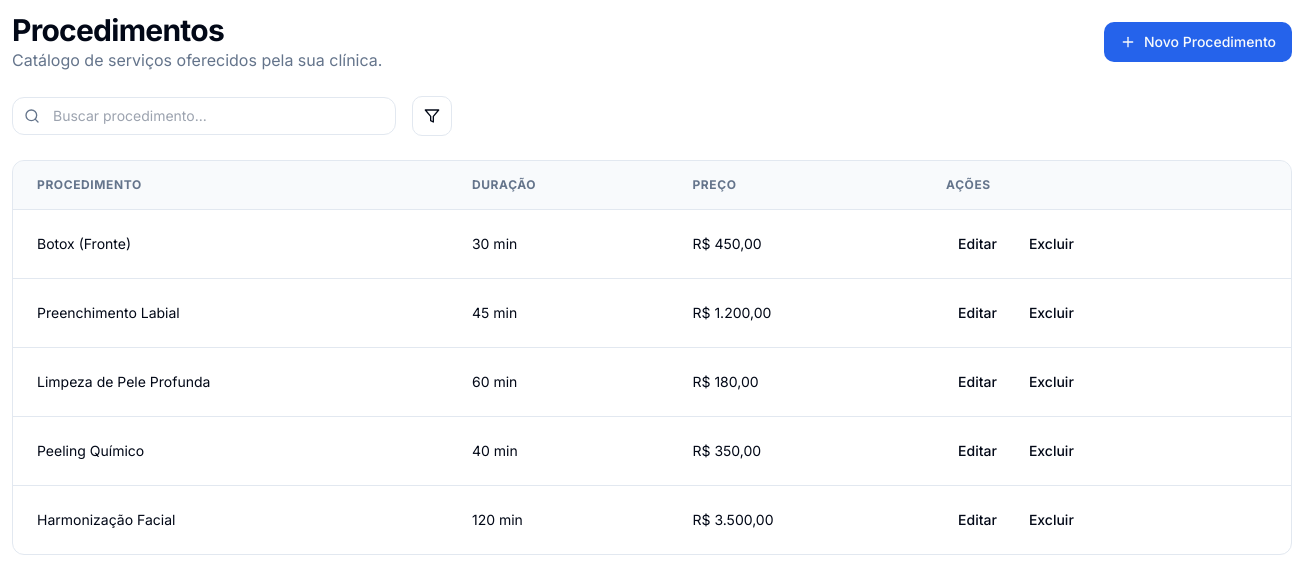
Test: ProceduresPage › filters procedures based on search input
expect the text "Botox (Fronte)" is shown: met, box x1=13 y1=210 x2=448 y2=278
Type in search box
Type "Preenchimento" into the field with placeholder "Buscar procedimento..." at (204, 116), box x1=12 y1=97 x2=396 y2=135
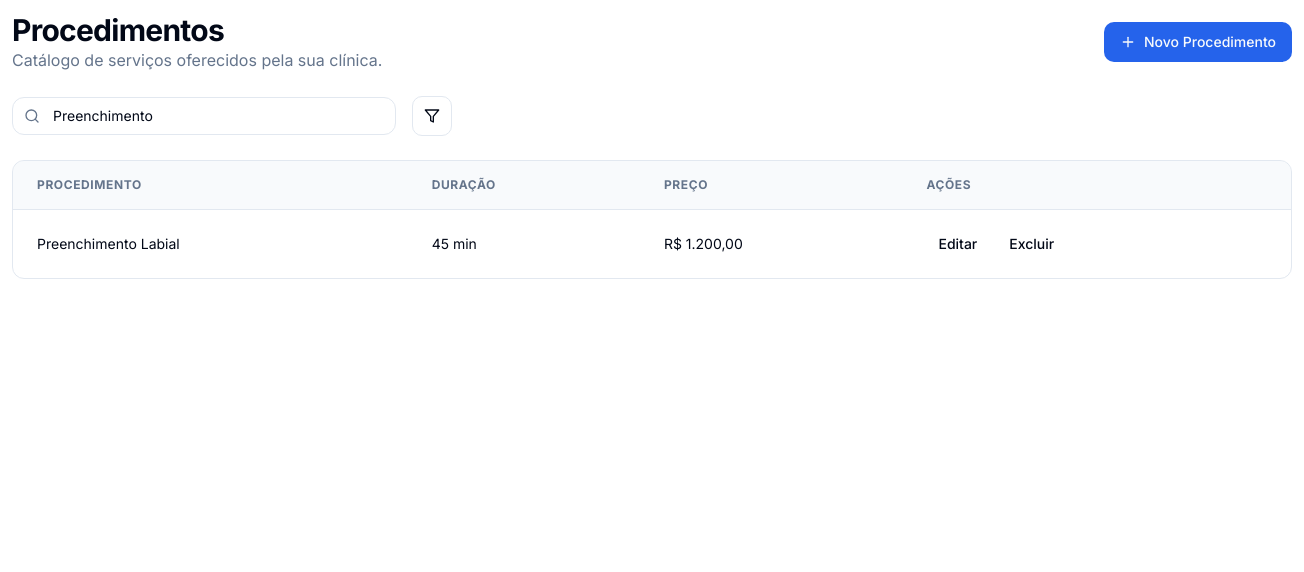
expect the text "Botox (Fronte)" is gone: met
expect the text "Preenchimento Labial" is shown: met, box x1=13 y1=210 x2=408 y2=278
